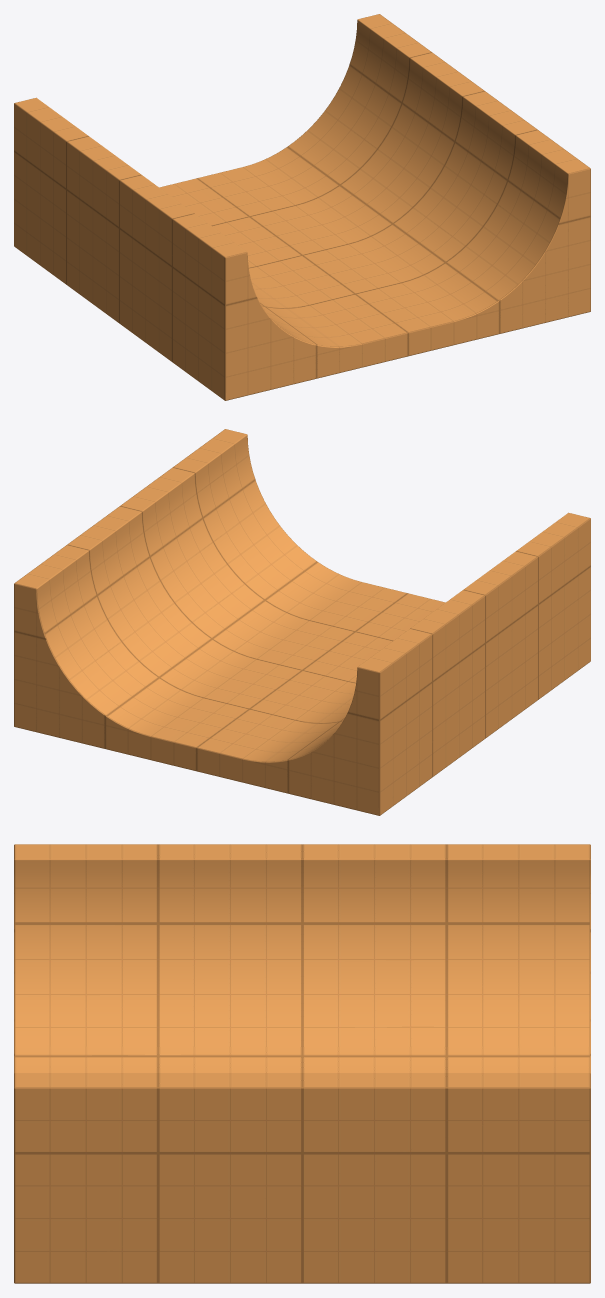
Rendered from skate-ramp.glb.
3 renders of one model, top to bottom at view 1: azimuth 30°, elevation 25°; view 2: azimuth 150°, elevation 25°; view 3: azimuth 270°, elevation 25°, orthographic. The views are drawn at different scales.
Visible parts, largest first — view 1: proto-half-pipe_ramp; view 2: proto-half-pipe_ramp; view 3: proto-half-pipe_ramp.
Part boxes in pixels (x1=…): proto-half-pipe_ramp: x1=14, y1=14, x2=590, y2=400; proto-half-pipe_ramp: x1=14, y1=429, x2=590, y2=815; proto-half-pipe_ramp: x1=14, y1=844, x2=590, y2=1283.
Bounding box in the file's own units: 4 × 1.5 × 4.
Materials: 1 (1 with a texture image).
